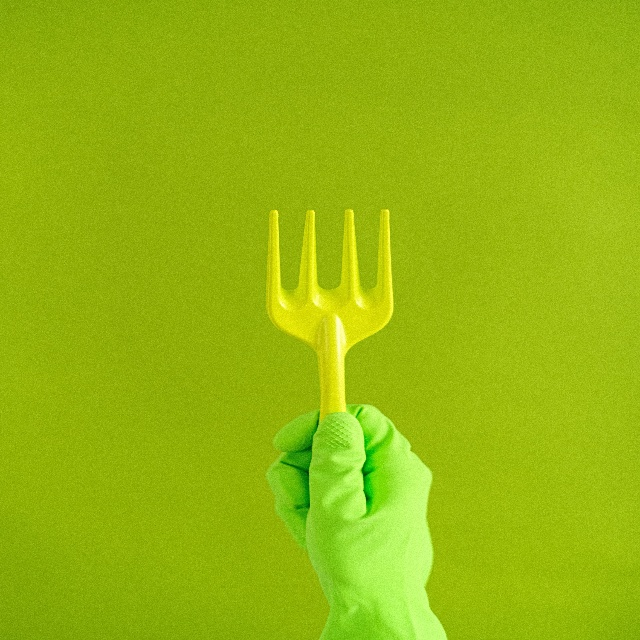Guantes: (265, 402, 448, 640)
